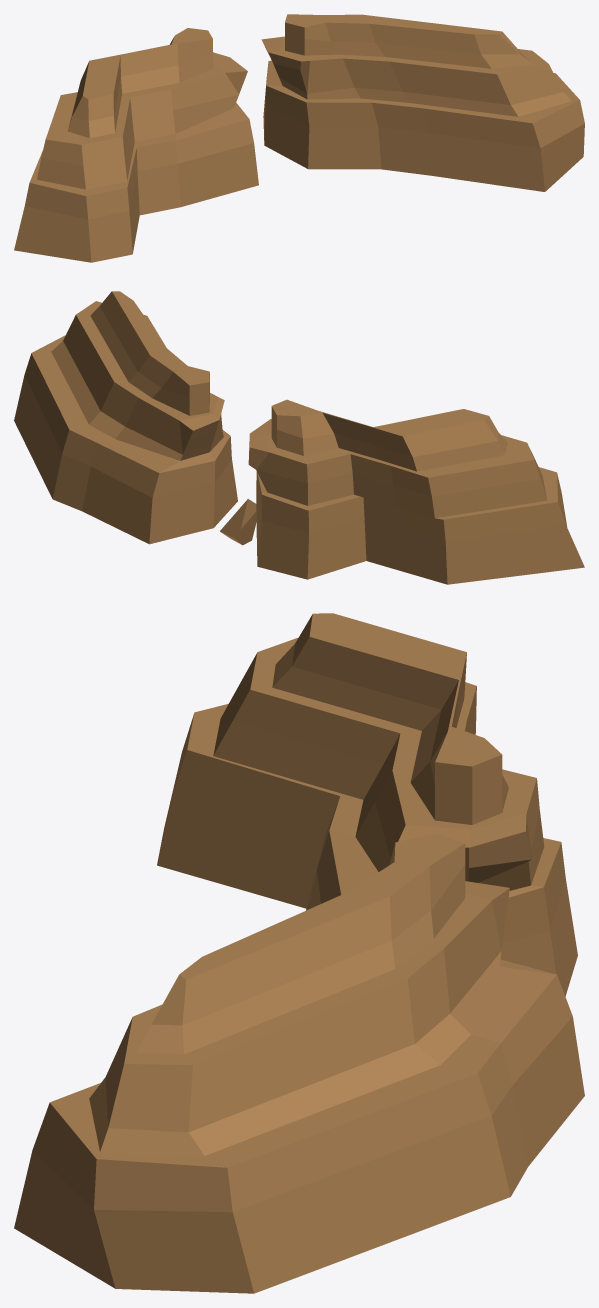
The model's file is las montanhas.fbx.
3 renders of one model, top to bottom at view 1: azimuth 30°, elevation 25°; view 2: azimuth 150°, elevation 25°; view 3: azimuth 270°, elevation 25°, orthographic. The views are drawn at different scales.
Visible parts, largest first — view 1: Desert.006; view 2: Desert.006; view 3: Desert.006.
Part boxes in pixels (x1,y1,x2,y2): Desert.006: (14,14,584,262); Desert.006: (14,291,584,584); Desert.006: (14,613,584,1293).
Size of the model in its own units: 19717 by 4685 by 9312.
